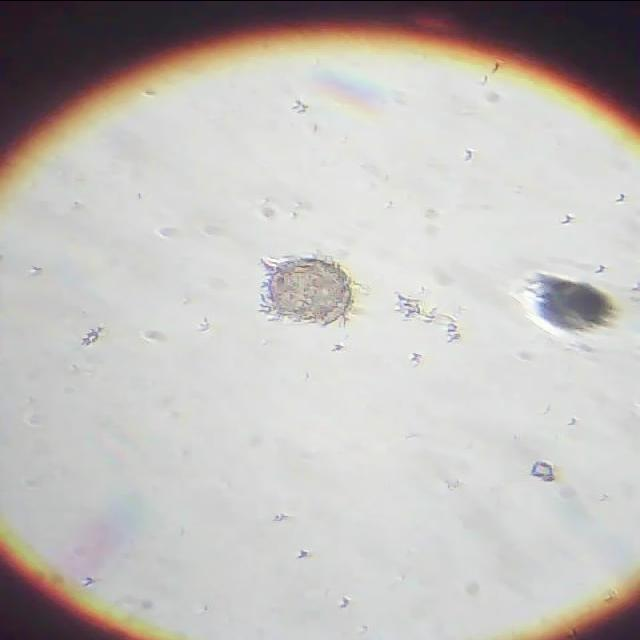alexandrium: (258, 248, 362, 326)
alexandrium minutum: (511, 264, 621, 346)
